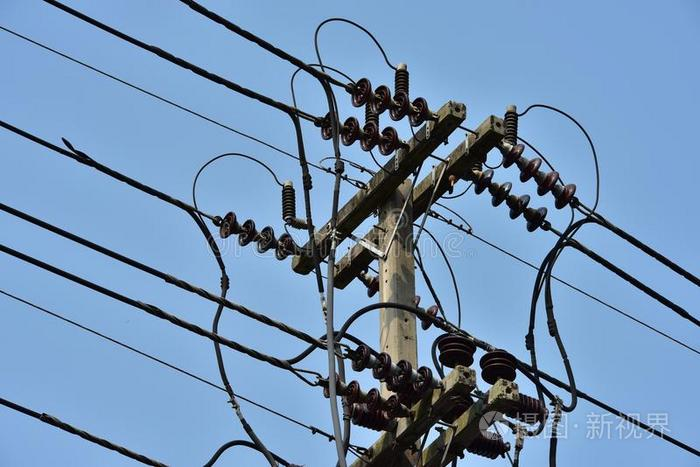insulator: (503, 143, 576, 212), (475, 168, 548, 229), (350, 76, 429, 127), (362, 277, 439, 328), (351, 346, 433, 390), (218, 213, 293, 259), (322, 374, 401, 416), (321, 112, 398, 154)
